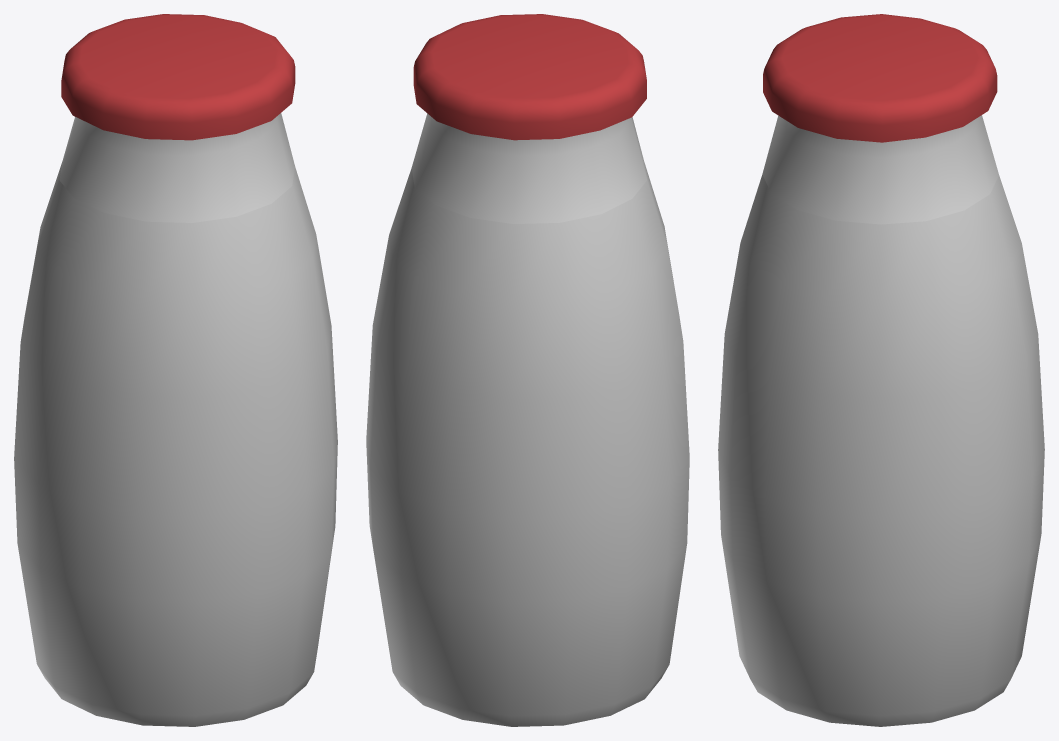
File: Ayran.fbx
3 views of the same model, side by side, from view 1: azimuth 30°, elevation 25°; view 2: azimuth 150°, elevation 25°; view 3: azimuth 270°, elevation 25° (orthographic).
Parts seen in each view (by area): view 1: ayran; view 2: ayran; view 3: ayran.
Part boxes in pixels (box(x1,y1,x2,y2)): ayran: box(14, 14, 337, 726); ayran: box(366, 14, 689, 726); ayran: box(718, 14, 1044, 726).
Bounding box in the file's own units: 21.61 × 45.96 × 22.01.
